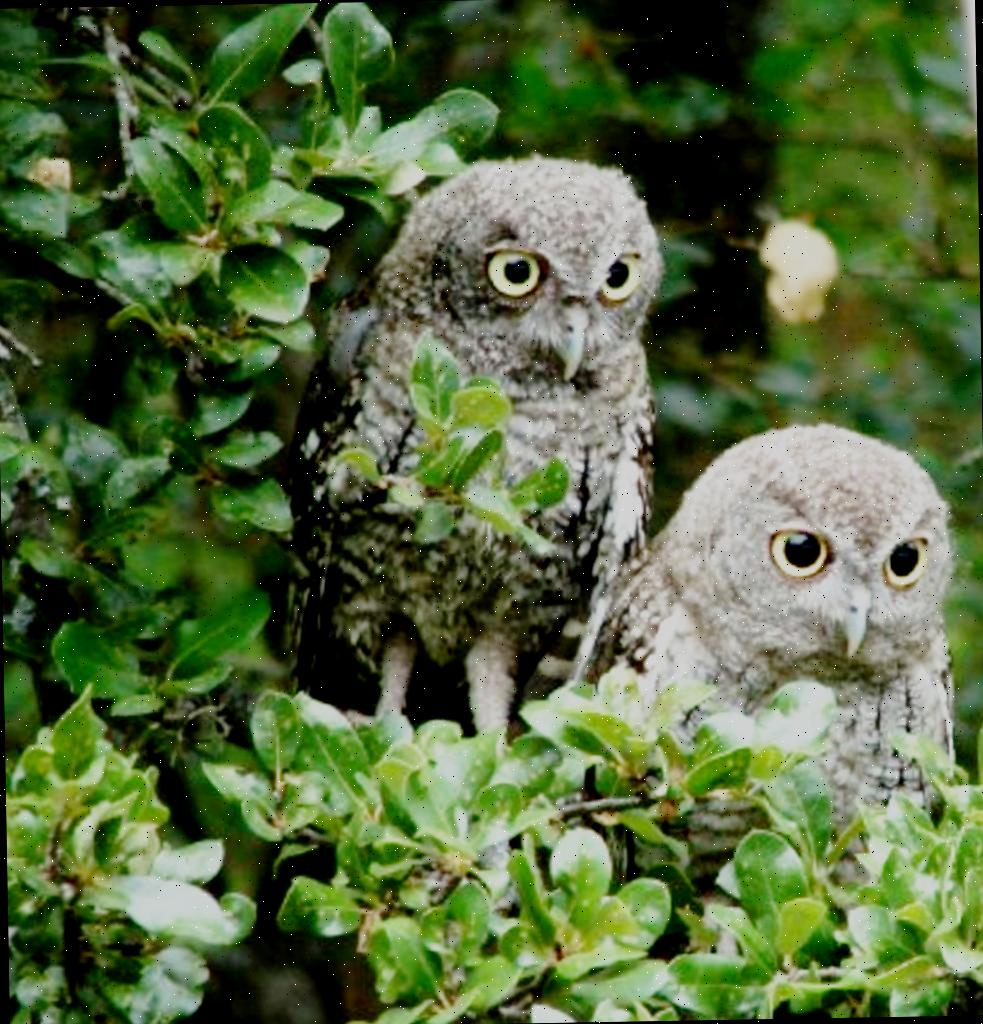Owl: (270, 150, 670, 766), (608, 414, 972, 948)
